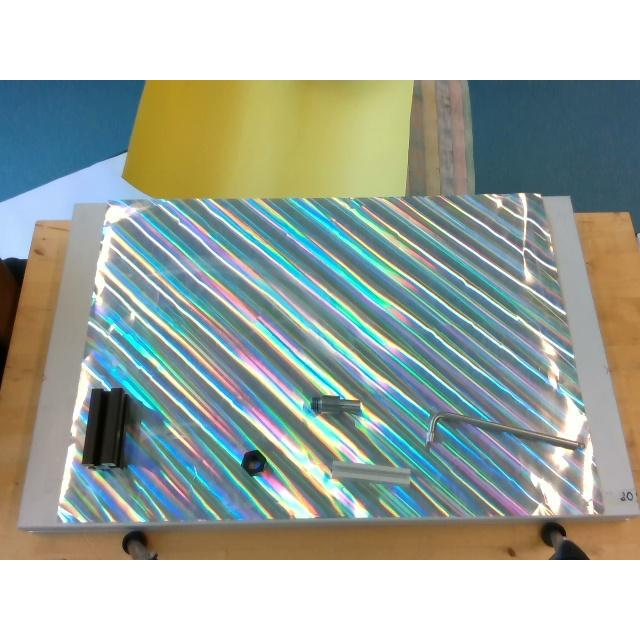AllenKey: (424, 412, 584, 452)
Axis2: (310, 395, 360, 413)
F20_20_G: (330, 460, 410, 486)
M20: (242, 450, 266, 474)
S40_40_B: (82, 388, 126, 468)
